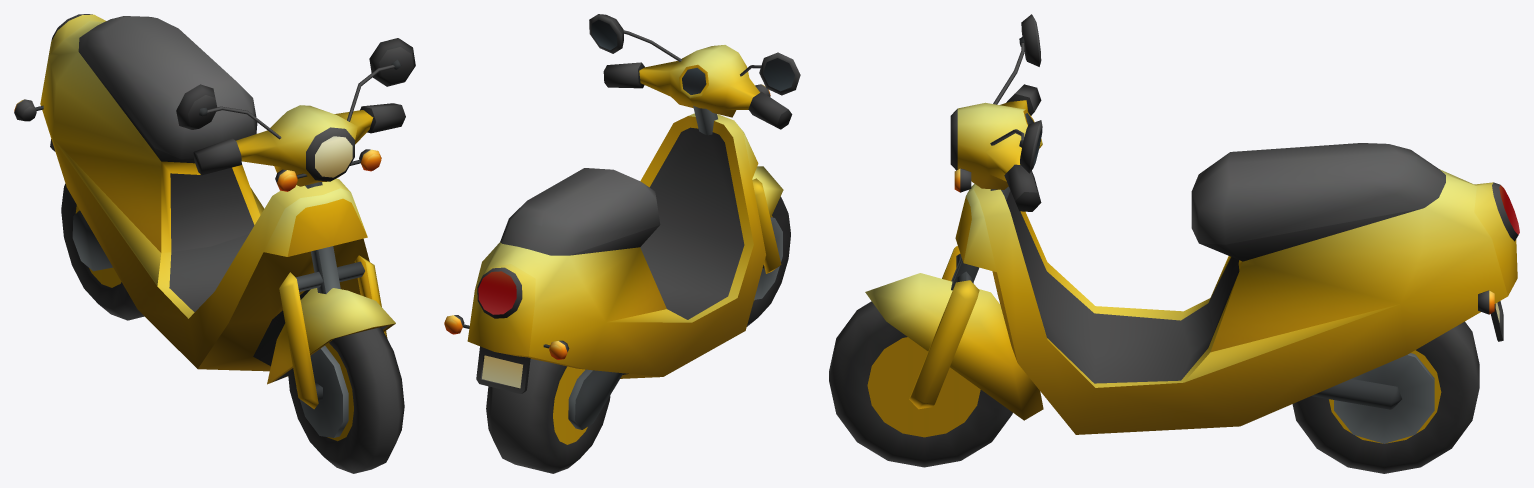
File: Scooter_1D.fbx
The picture shows the model from 3 angles, left to right: view 1: azimuth 30°, elevation 25°; view 2: azimuth 150°, elevation 25°; view 3: azimuth 270°, elevation 25°; orthographic projection. The views are drawn at different scales.
Visible parts, largest first — view 1: Scooter_1D_Body, Scooter_1D_Handlebars, Scooter_1D_Wheel.F, Scooter_1D_Wheel.R; view 2: Scooter_1D_Body, Scooter_1D_Handlebars, Scooter_1D_Wheel.R, Scooter_1D_Wheel.F; view 3: Scooter_1D_Body, Scooter_1D_Handlebars, Scooter_1D_Wheel.F, Scooter_1D_Wheel.R.
Part boxes in pixels (x1,y1,x2,y2): Scooter_1D_Body: (14, 14, 369, 371); Scooter_1D_Handlebars: (176, 38, 415, 409); Scooter_1D_Wheel.F: (288, 327, 404, 473); Scooter_1D_Wheel.R: (61, 183, 144, 320); Scooter_1D_Body: (444, 113, 765, 429); Scooter_1D_Handlebars: (589, 14, 800, 273); Scooter_1D_Wheel.R: (486, 359, 610, 473); Scooter_1D_Wheel.F: (747, 196, 790, 326); Scooter_1D_Body: (955, 143, 1519, 434); Scooter_1D_Handlebars: (865, 14, 1043, 420); Scooter_1D_Wheel.F: (829, 301, 1012, 467); Scooter_1D_Wheel.R: (1292, 321, 1479, 473).
Bounding box in the file's own units: 1.13 × 1.66 × 2.62.
Materials: 1 (1 with a texture image).
